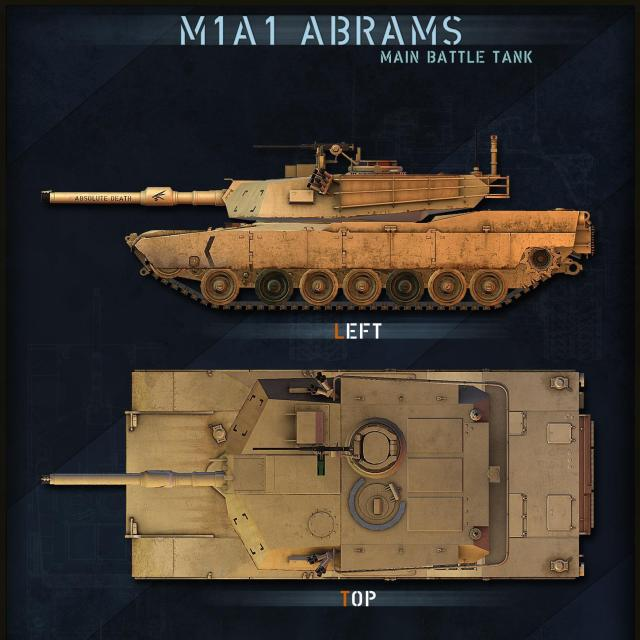Tanks: (29, 369, 593, 586), (26, 125, 603, 316)
